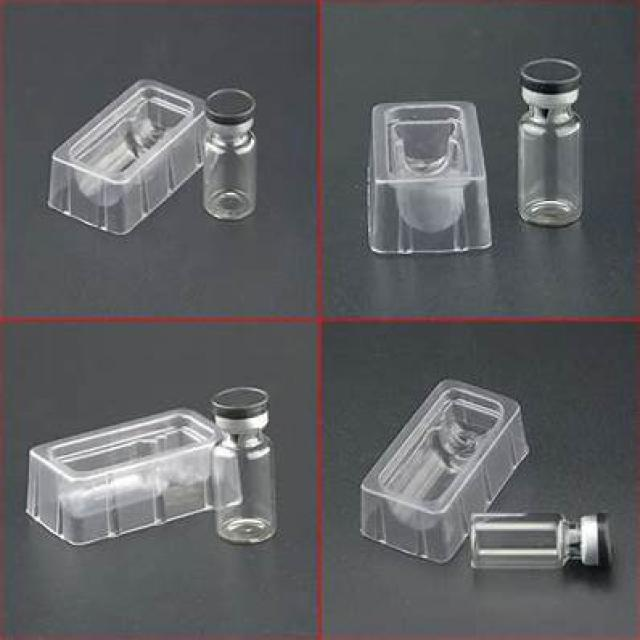vial: (201, 385, 279, 421), (525, 60, 598, 97), (199, 91, 260, 134), (580, 506, 617, 562)
